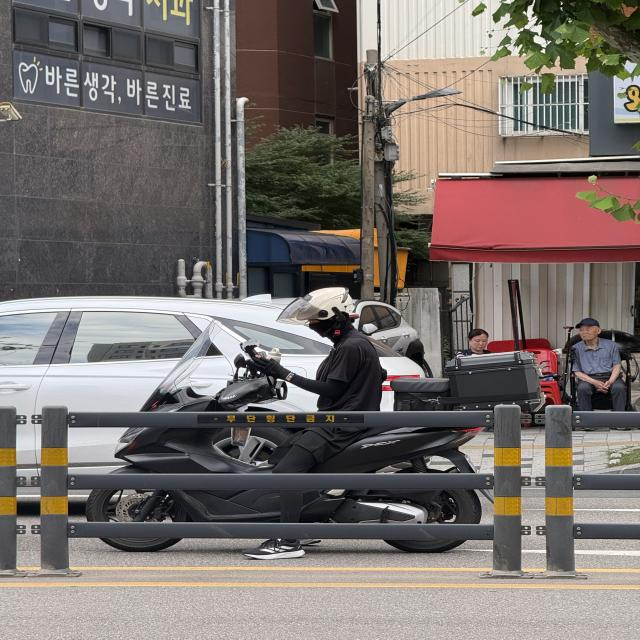motorcycle: (78, 273, 516, 604)
